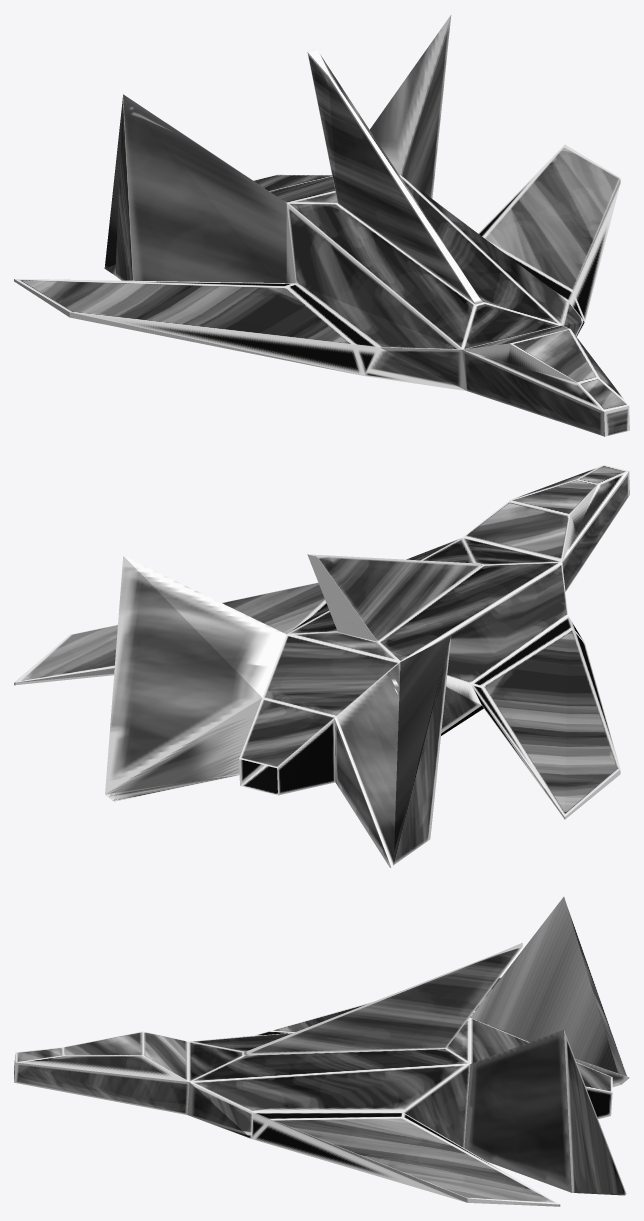
The model's file is player.FBX.
The picture shows the model from 3 angles, top to bottom: view 1: azimuth 30°, elevation 25°; view 2: azimuth 150°, elevation 25°; view 3: azimuth 270°, elevation 25°; orthographic projection. The views are drawn at different scales.
Visible parts, largest first — view 1: player; view 2: player; view 3: player.
Boxes of the visible parts, x1=… form: player: x1=14, y1=15, x2=629, y2=436; player: x1=14, y1=465, x2=629, y2=867; player: x1=14, y1=897, x2=629, y2=1206.
Bounding box in the file's own units: 0.4369 × 0.1783 × 0.5081.
Materials: 1 (1 with a texture image).
